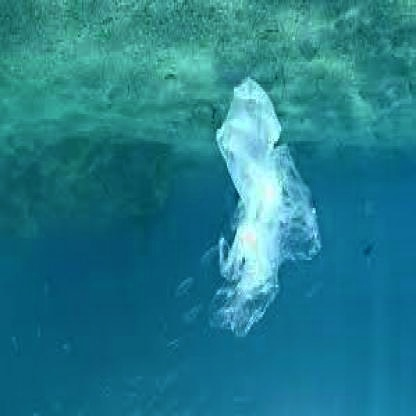pbag: (207, 72, 323, 339)
